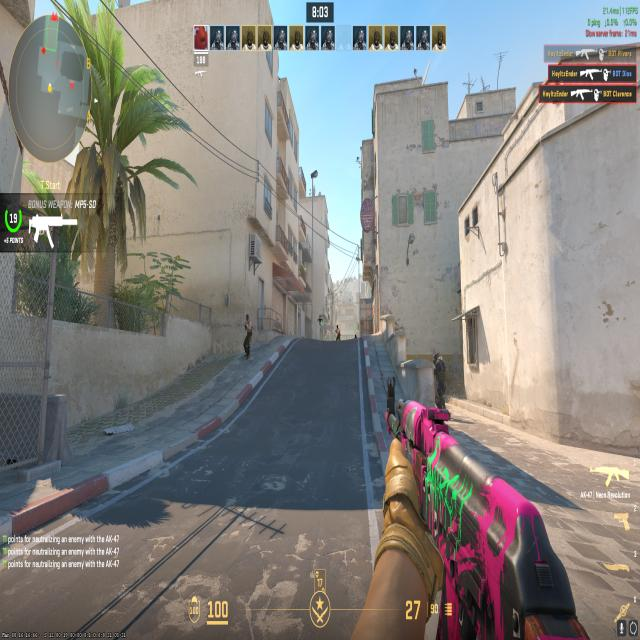ct: (431, 350, 449, 412)
t: (241, 311, 256, 362), (334, 321, 341, 340)
